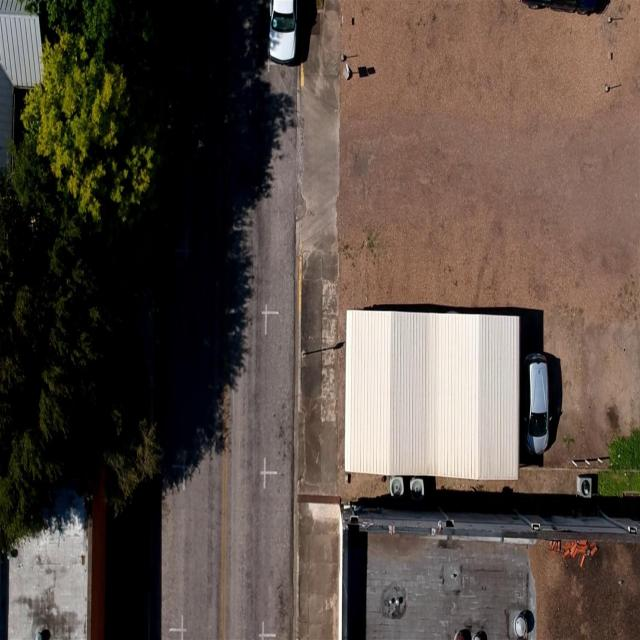Car: (268, 0, 298, 64)
Van: (522, 351, 551, 456)
